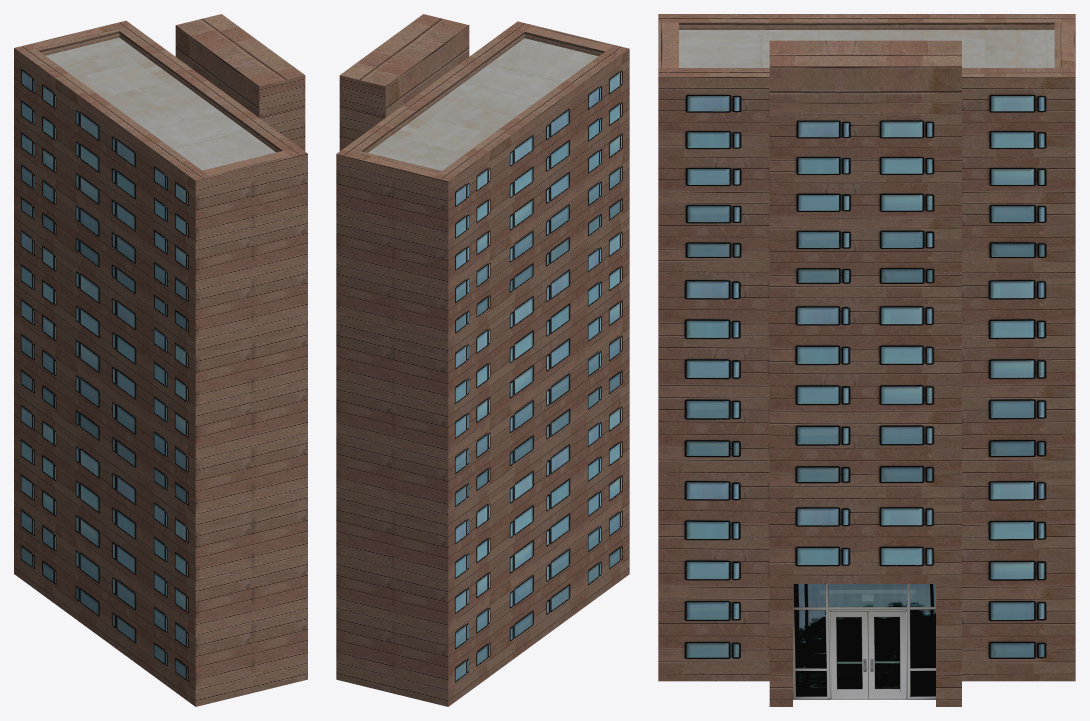
Rendered from Pizza_Delivery house25.fbx.
3 views of the same model, side by side, from view 1: azimuth 30°, elevation 25°; view 2: azimuth 150°, elevation 25°; view 3: azimuth 270°, elevation 25° (orthographic). The views are drawn at different scales.
Parts seen in each view (by area): view 1: Pizza_Delivery:Pizza_Delivery:house25; view 2: Pizza_Delivery:Pizza_Delivery:house25; view 3: Pizza_Delivery:Pizza_Delivery:house25.
Boxes of the visible parts, x1,y1,x2,y2 form: Pizza_Delivery:Pizza_Delivery:house25: (14,14,307,706); Pizza_Delivery:Pizza_Delivery:house25: (336,14,629,706); Pizza_Delivery:Pizza_Delivery:house25: (658,14,1075,706).
Size of the model in its own units: 9.02 by 30.41 by 17.95.
